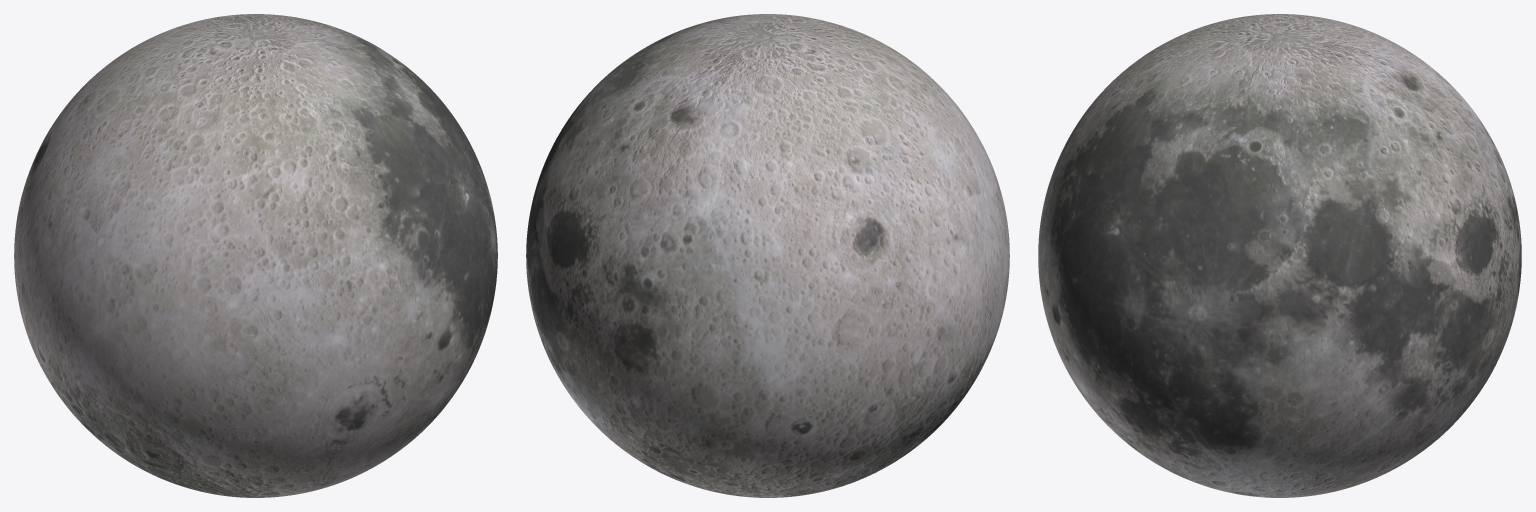
The model's file is moon.glb.
The picture shows the model from 3 angles, left to right: view 1: azimuth 30°, elevation 25°; view 2: azimuth 150°, elevation 25°; view 3: azimuth 270°, elevation 25°; orthographic projection.
Parts seen in each view (by area): view 1: Moon_Asset; view 2: Moon_Asset; view 3: Moon_Asset.
Boxes of the visible parts, x1,y1,x2,y2 form: Moon_Asset: (14, 14, 497, 497); Moon_Asset: (526, 14, 1009, 497); Moon_Asset: (1038, 14, 1521, 497).
Size of the model in its own units: 0.5392 by 0.54 by 0.5392.
Materials: 1 (1 with a texture image).
